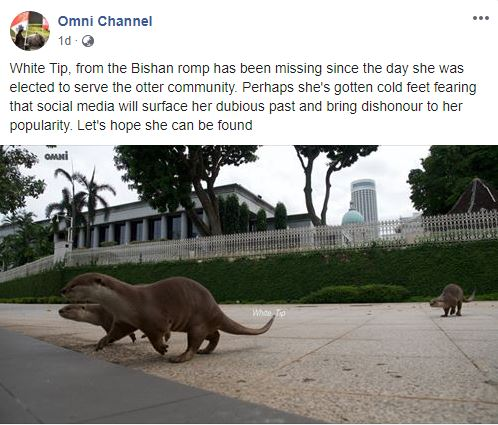otter: (59, 265, 280, 366), (51, 300, 140, 347), (427, 277, 476, 319)
